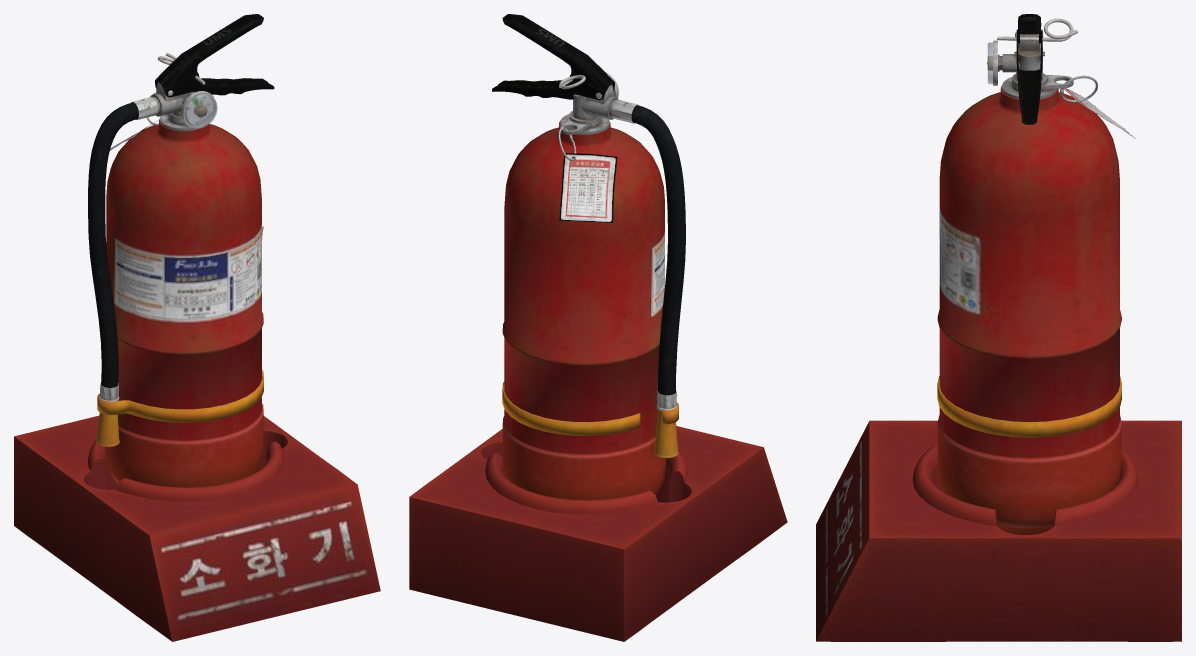
The model's file is korean_fire_extinguisher_01.gltf.
3 views of the same model, side by side, from view 1: azimuth 30°, elevation 25°; view 2: azimuth 150°, elevation 25°; view 3: azimuth 270°, elevation 25° (orthographic). The views are drawn at different scales.
Parts seen in each view (by area): view 1: korean_fire_extinguisher_01; view 2: korean_fire_extinguisher_01; view 3: korean_fire_extinguisher_01.
Boxes of the visible parts, <box> form: korean_fire_extinguisher_01: <box>14,14,380,641</box>; korean_fire_extinguisher_01: <box>409,14,787,641</box>; korean_fire_extinguisher_01: <box>816,14,1181,641</box>.
Size of the model in its own units: 0.28 by 0.6593 by 0.3674.
Materials: 3 (3 with a texture image).
